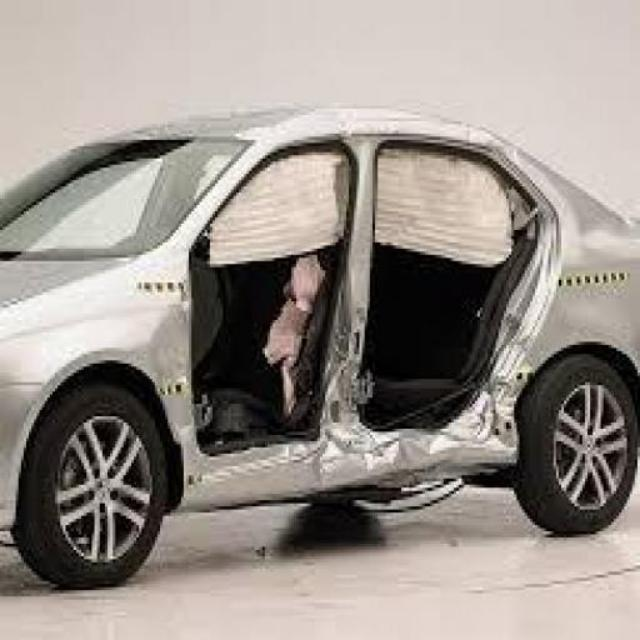no part: (164, 123, 569, 494)
